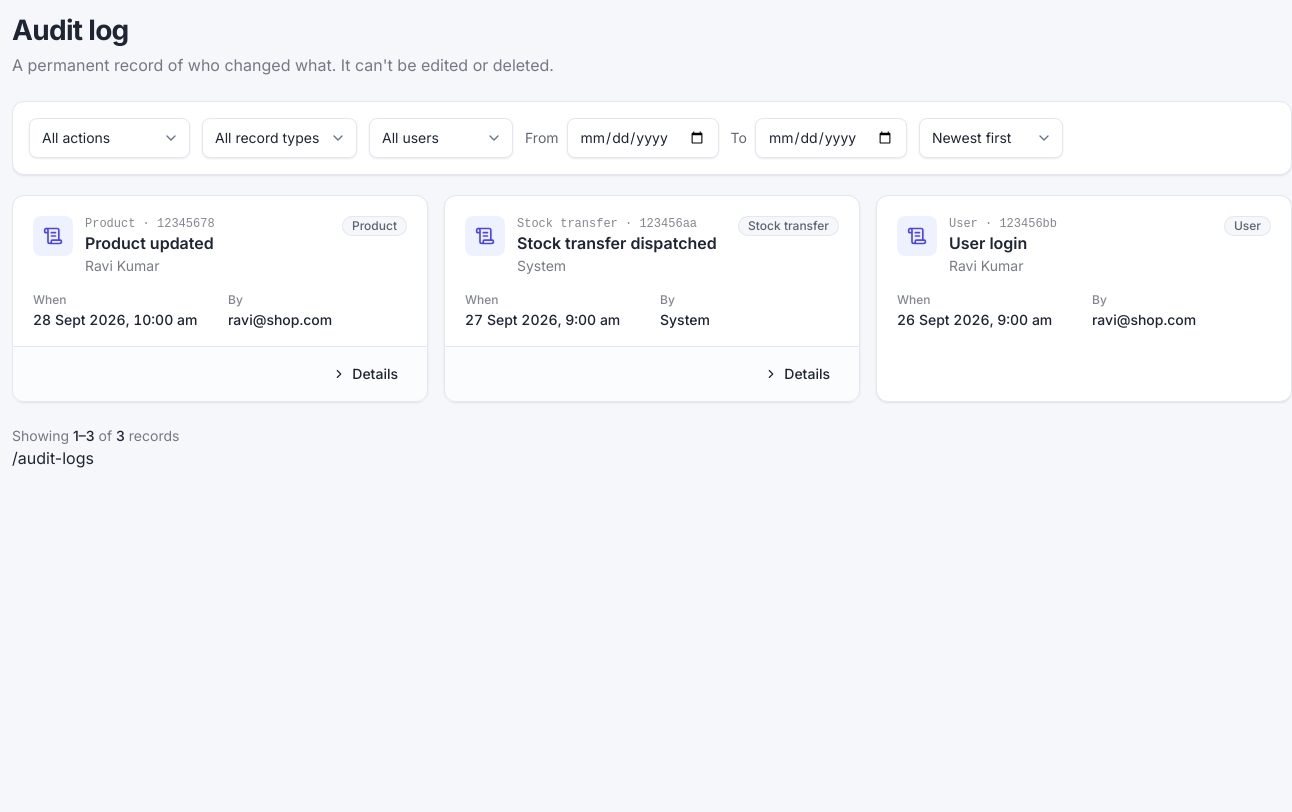
Test case: AuditLogPage › only one entry's details are open at a time
Click the button with aria-label "Show details: Product updated" at x=365, y=374, box [319,357,411,391]
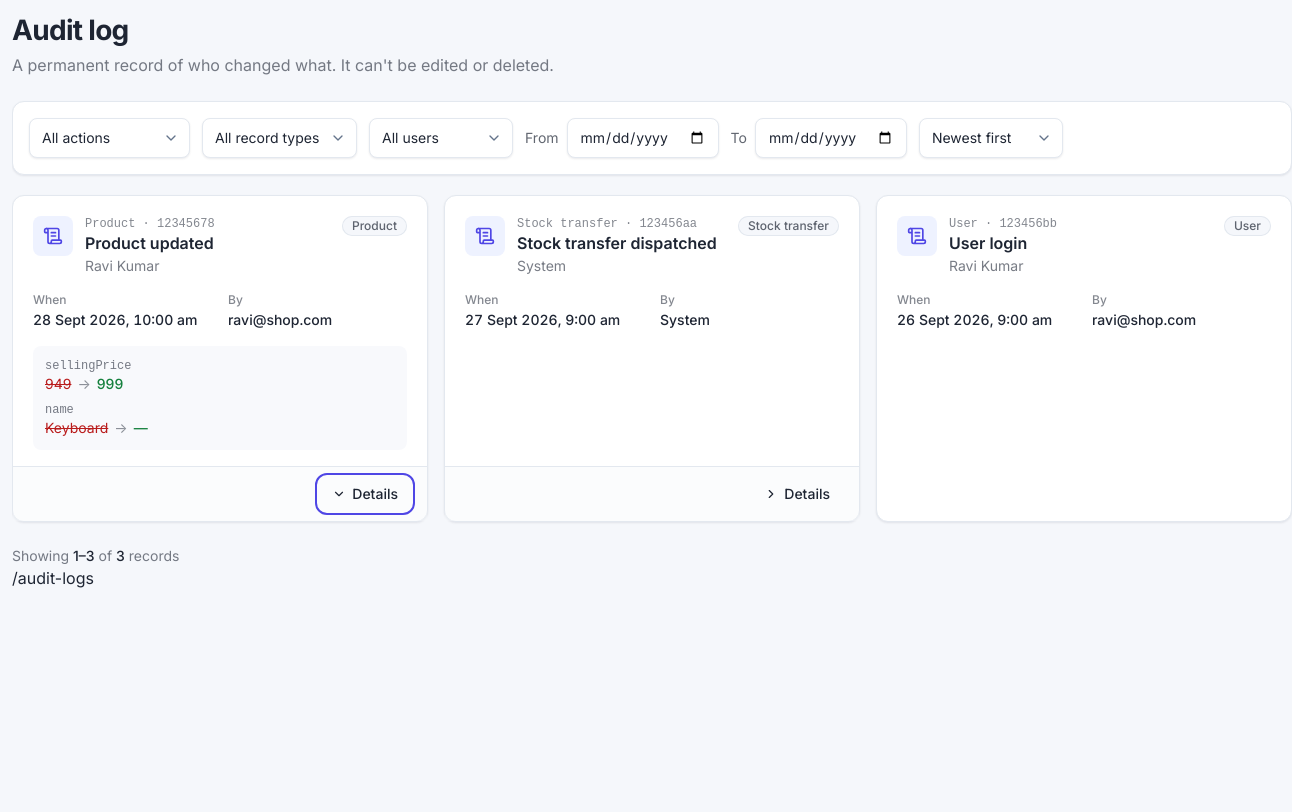
Click the button with aria-label "Show details: Stock transfer dispatched" at x=797, y=494, box [751,477,843,511]
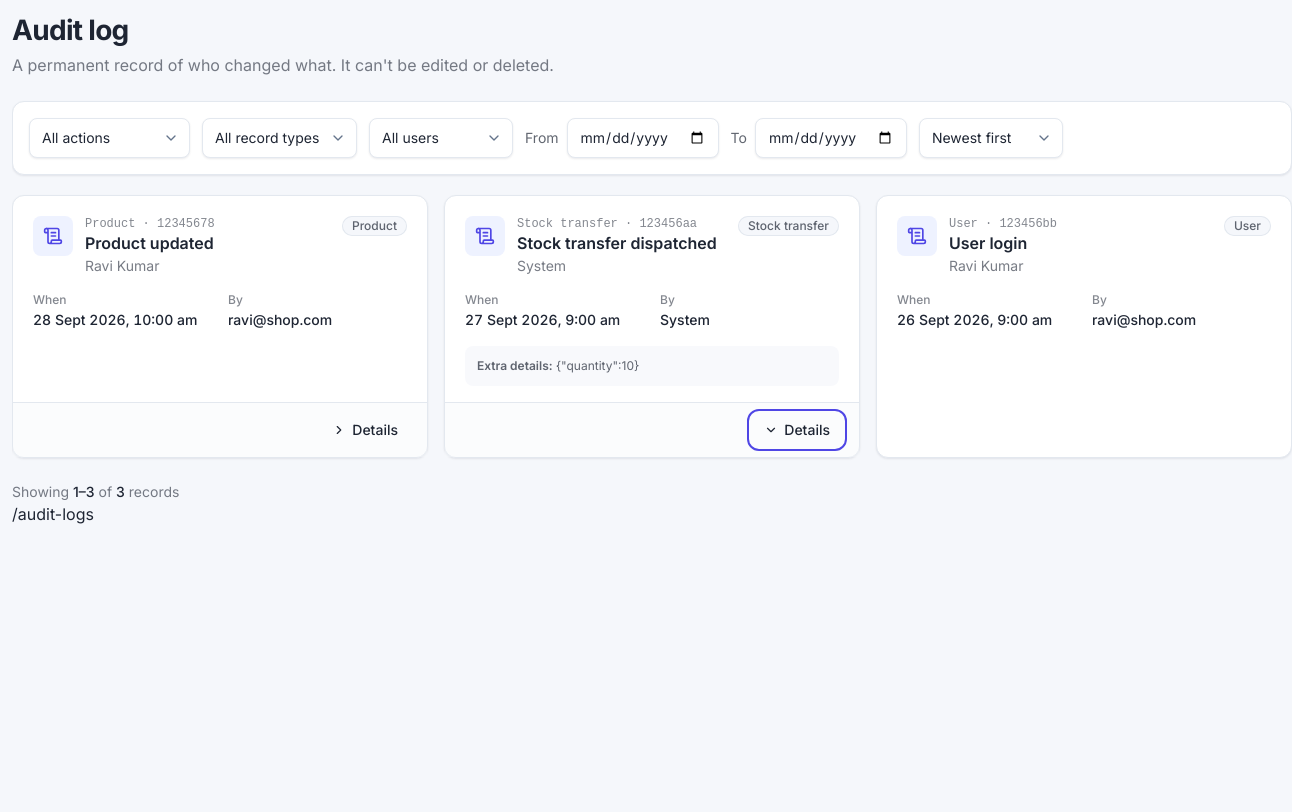
expect the button with aria-label "Show details: Product updated" is shown: met, box [319,413,411,447]
expect the button with aria-label "Hide details: Stock transfer dispatched" is shown: met, box [751,413,843,447]
